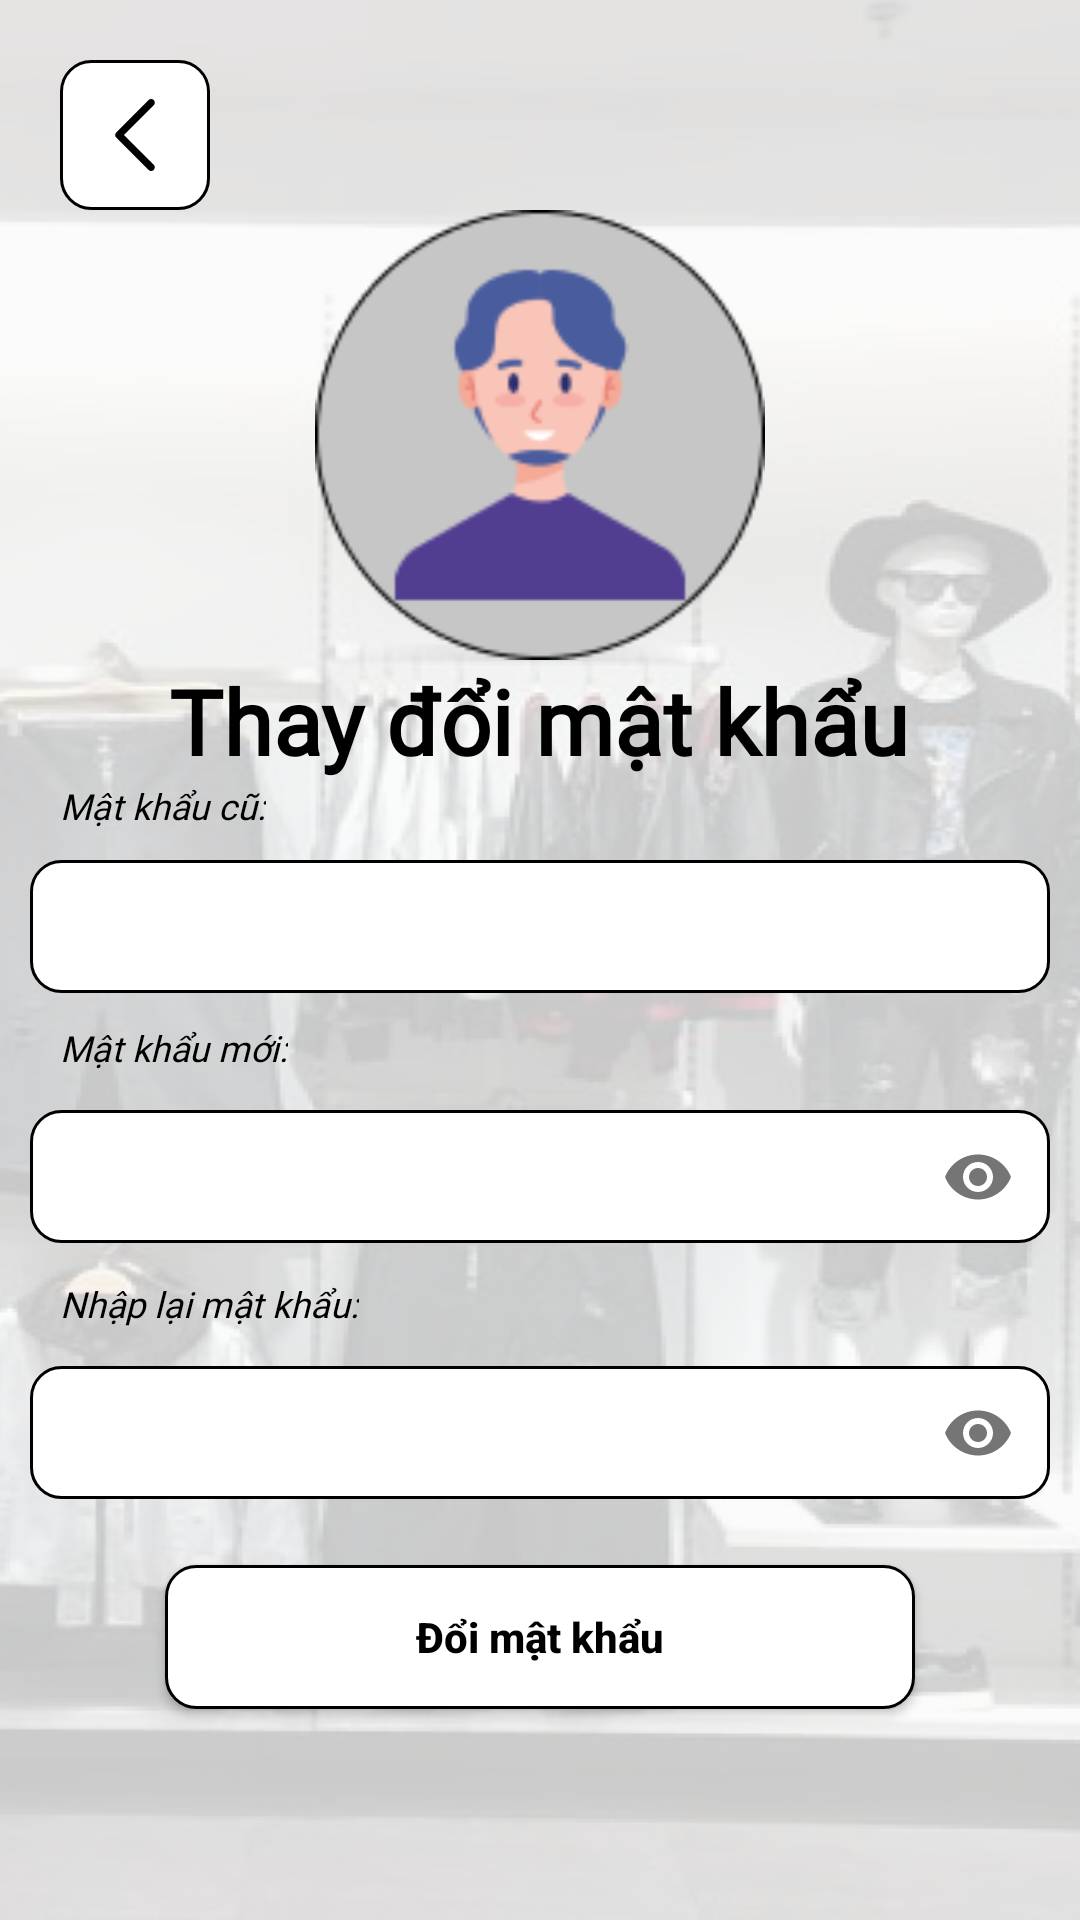

Screen size 1080w x 1920h. Icon name, then its box in pixels as (x1, y1, x2, y2):
back: (60, 60, 210, 210)
